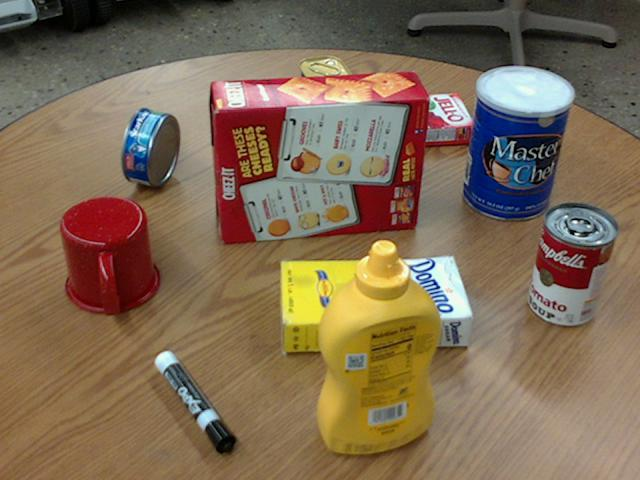cracker_box: (210, 70, 426, 243)
gelatin_box: (404, 93, 475, 143)
large_marker: (153, 351, 232, 452)
master_chef_can: (462, 66, 572, 219)
mug: (60, 196, 160, 312)
mustard_bottle: (316, 240, 439, 453)
potted_meat_can: (299, 55, 361, 152)
sugar_box: (279, 257, 473, 351)
tomato_soup_can: (529, 202, 618, 326)
tuna_fish_can: (122, 108, 178, 186)
